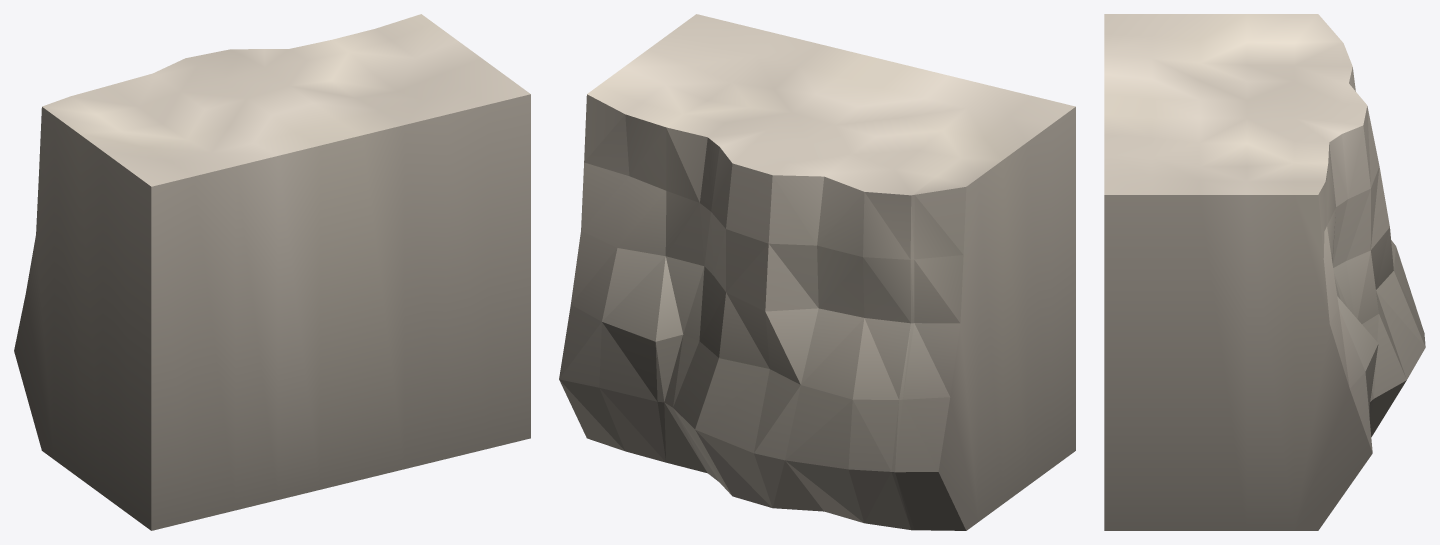
Rendered from SM_VKI_Rock_Cave_CCOO_C.fbx.
3 renders of one model, left to right at view 1: azimuth 30°, elevation 25°; view 2: azimuth 150°, elevation 25°; view 3: azimuth 270°, elevation 25°, orthographic. The views are drawn at different scales.
Visible parts, largest first — view 1: SM_VKI_Rock_Cave_CCOO_C.001; view 2: SM_VKI_Rock_Cave_CCOO_C.001; view 3: SM_VKI_Rock_Cave_CCOO_C.001.
Boxes of the visible parts, x1,y1,x2,y2 form: SM_VKI_Rock_Cave_CCOO_C.001: (14,14,530,530); SM_VKI_Rock_Cave_CCOO_C.001: (559,14,1075,530); SM_VKI_Rock_Cave_CCOO_C.001: (1104,14,1425,530).
Size of the model in its own units: 1.5 by 1.3 by 1.13.
